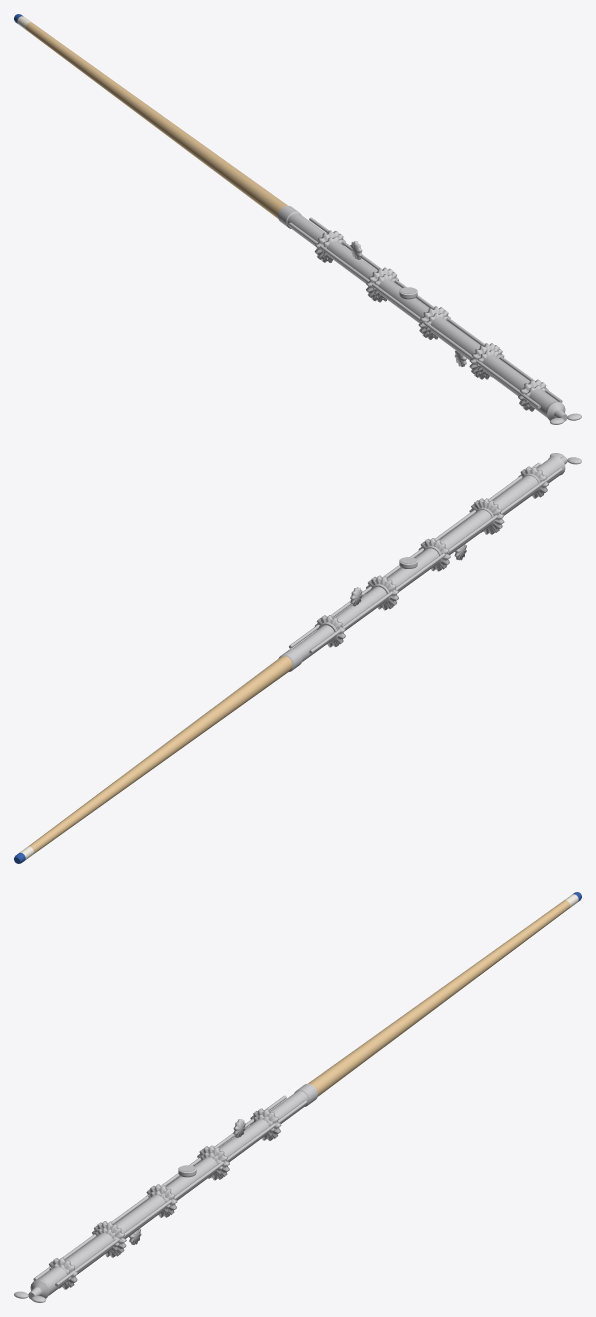
The model's file is cue_clockwork.glb.
3 renders of one model, top to bottom at view 1: azimuth 30°, elevation 25°; view 2: azimuth 150°, elevation 25°; view 3: azimuth 330°, elevation 25°, orthographic.
Parts seen in each view (by area): view 1: shaft, dark, gear, copper; view 2: shaft, dark, gear, copper; view 3: shaft, dark, gear, copper.
Part boxes in pixels (bbox=[...]): shaft: bbox=[25, 22, 287, 218]; dark: bbox=[287, 213, 558, 417]; gear: bbox=[278, 205, 581, 424]; copper: bbox=[289, 217, 562, 408]; shaft: bbox=[28, 656, 292, 853]; dark: bbox=[292, 458, 562, 661]; gear: bbox=[278, 453, 581, 671]; copper: bbox=[289, 462, 562, 653]; shaft: bbox=[308, 900, 570, 1096]; dark: bbox=[37, 1091, 308, 1295]; gear: bbox=[14, 1083, 317, 1302]; copper: bbox=[33, 1095, 306, 1286].
Size of the model in its own units: 0.0502 by 0.0708 by 1.48.
